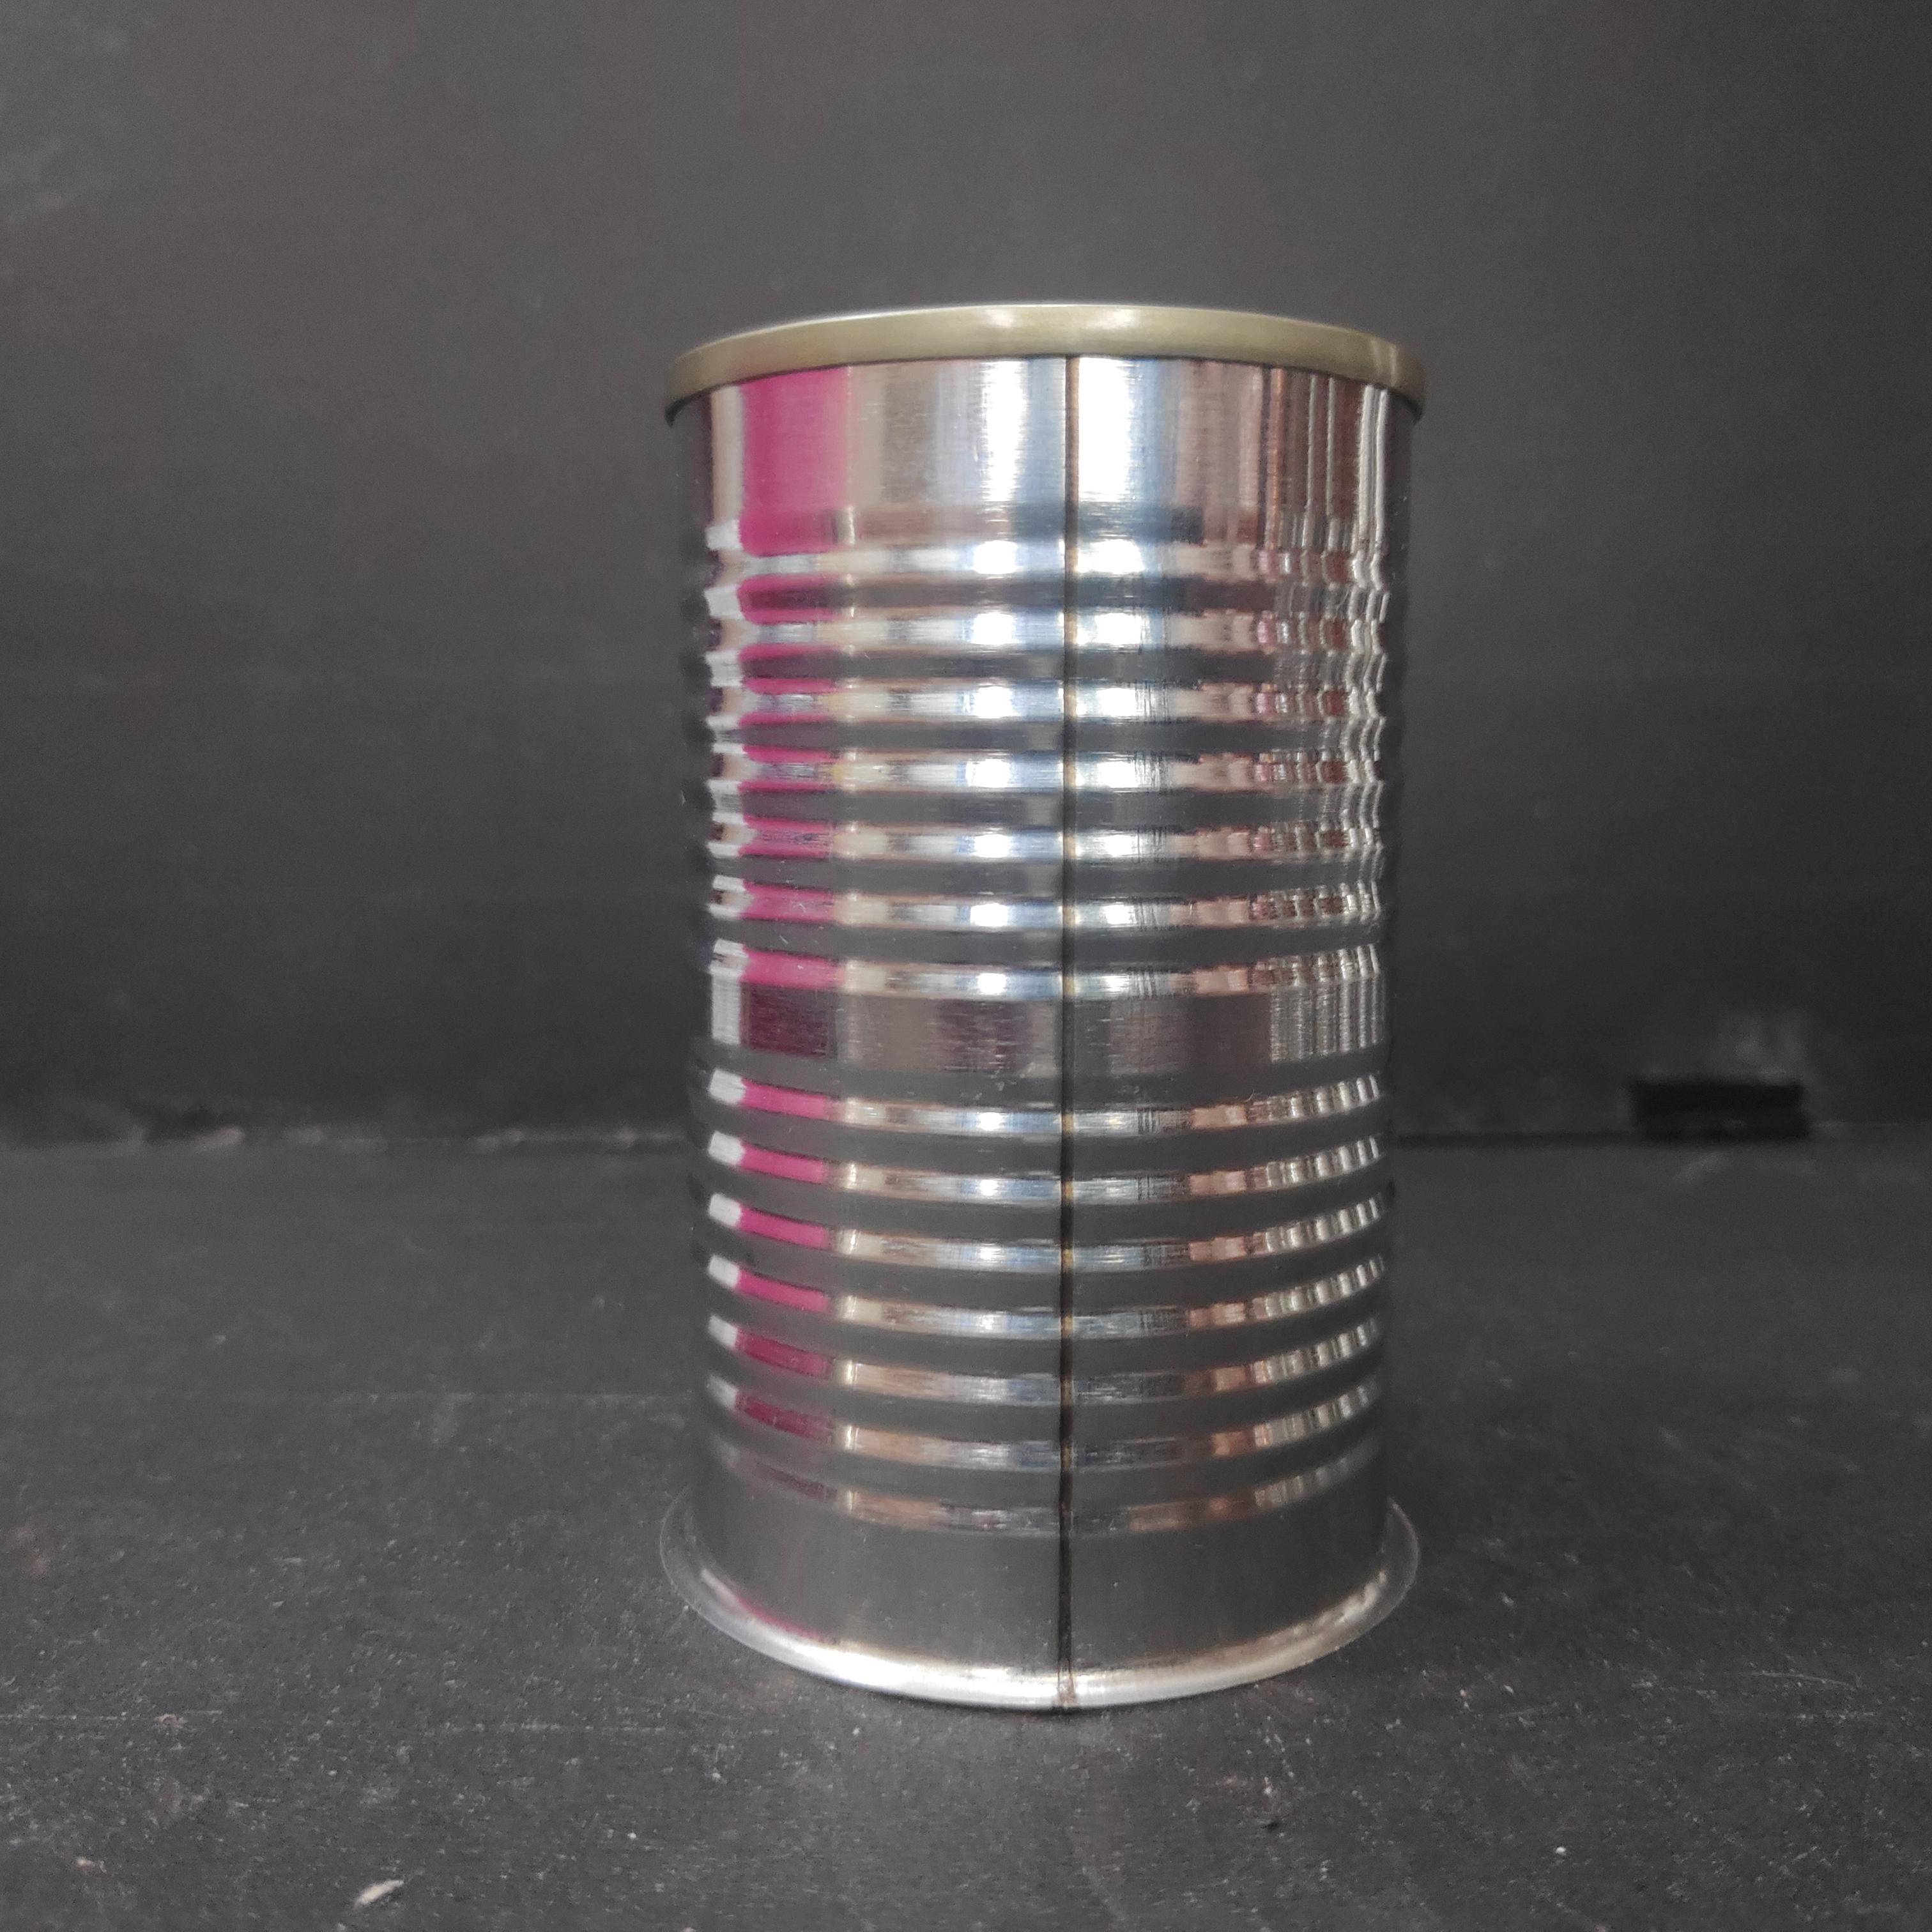No defect: (653, 301, 1430, 1711)
